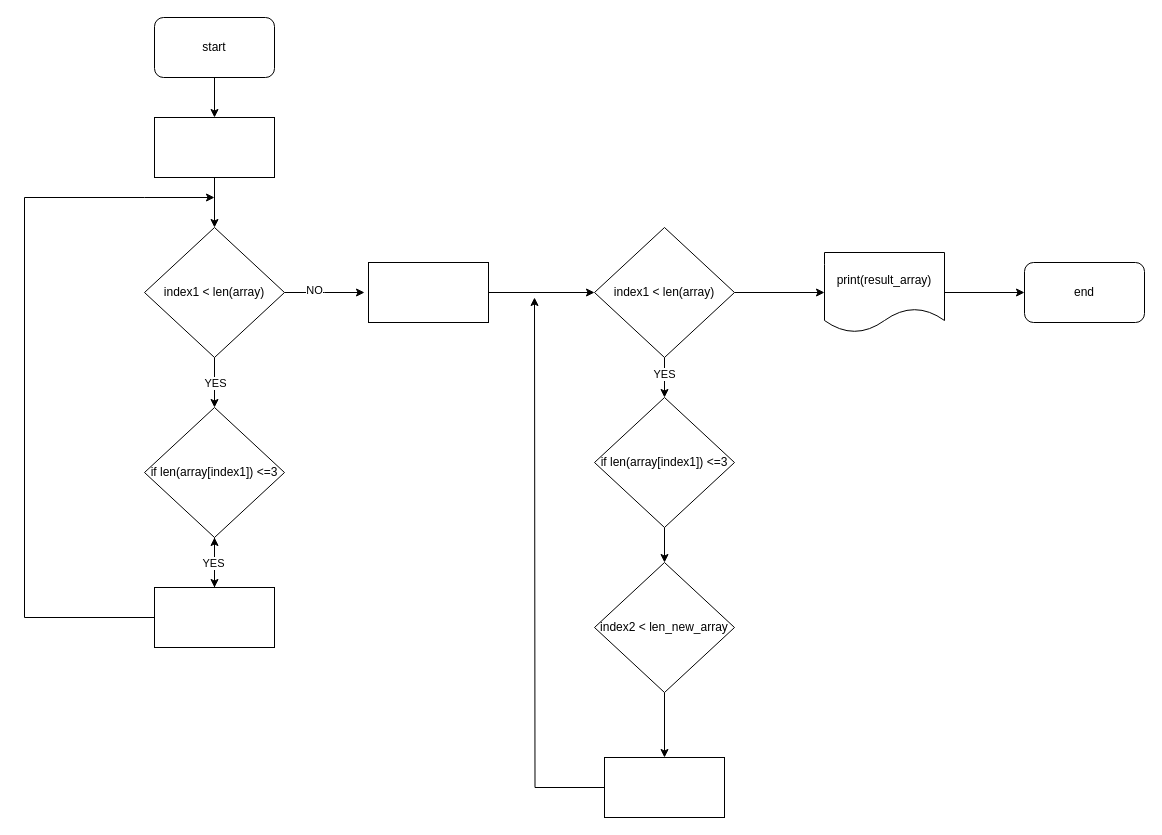
Image size: 1162x835. Some labels were removed from this diagram. Here are the shapes that lost their labels. From the top down, the centre of each, then its label:
At point (214, 147): "array[data for parse] result_array[] index = 0 len_new_array = 0".
At point (428, 292): "str[] result_array = new str[len_new_array ]".
At point (214, 617): "len_new_array++".
At point (664, 787): "result_array[index] = array[index1]".
